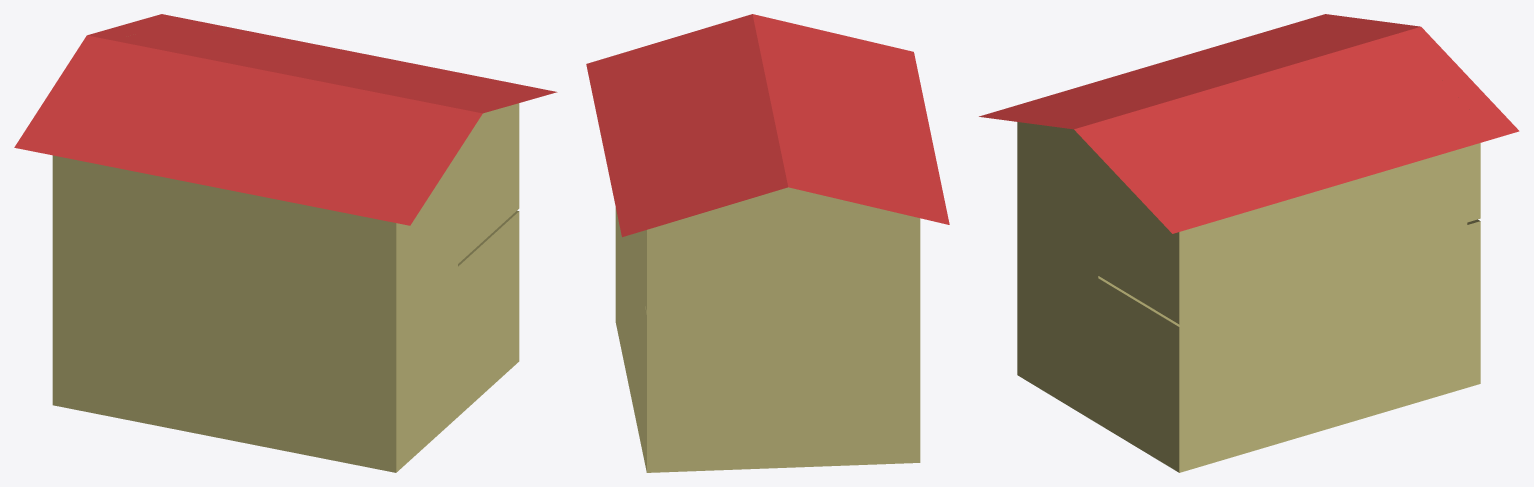
3 views of the same model, side by side, from view 1: azimuth 30°, elevation 25°; view 2: azimuth 150°, elevation 25°; view 3: azimuth 270°, elevation 25° (orthographic). The views are drawn at different scales.
Size of the model in its own units: 18.51 by 19.25 by 11.79.
